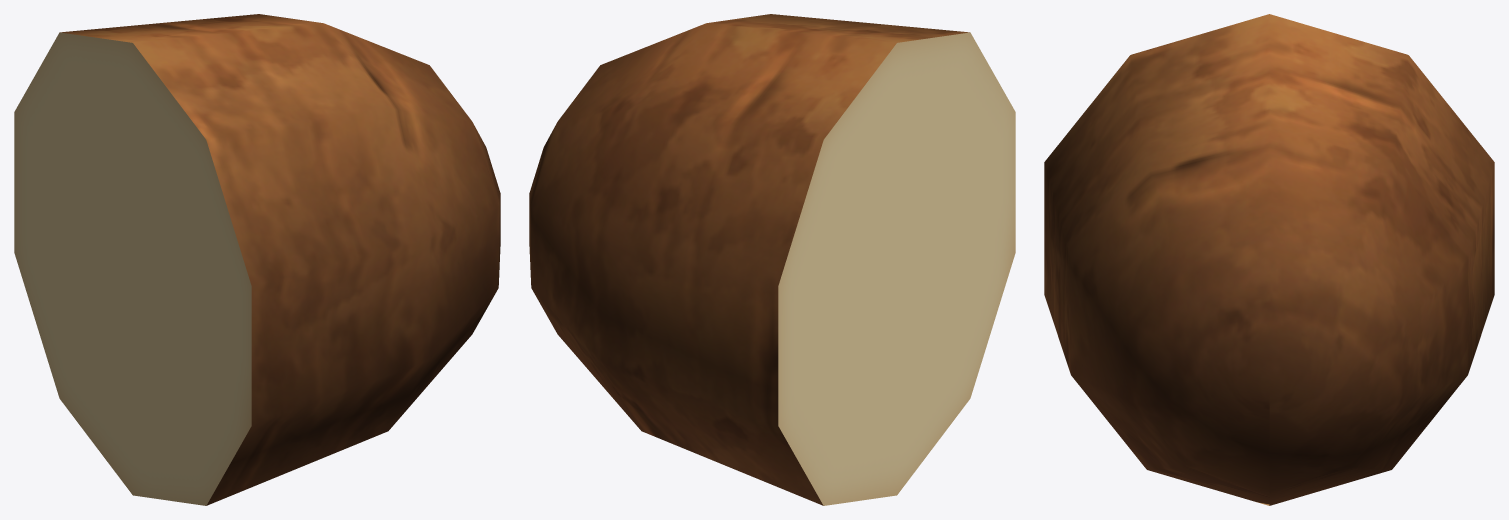
File: Potato_Russet_Half.fbx
The picture shows the model from 3 angles, left to right: view 1: azimuth 30°, elevation 25°; view 2: azimuth 150°, elevation 25°; view 3: azimuth 270°, elevation 25°; orthographic projection. The views are drawn at different scales.
Visible parts, largest first — view 1: Potato_Russet_Half; view 2: Potato_Russet_Half; view 3: Potato_Russet_Half.
Part boxes in pixels (left/top/right/bottom): Potato_Russet_Half: left=14, top=14, right=500, bottom=505; Potato_Russet_Half: left=529, top=14, right=1015, bottom=505; Potato_Russet_Half: left=1044, top=14, right=1494, bottom=505.
Size of the model in its own units: 30.27 by 37.91 by 36.05.
